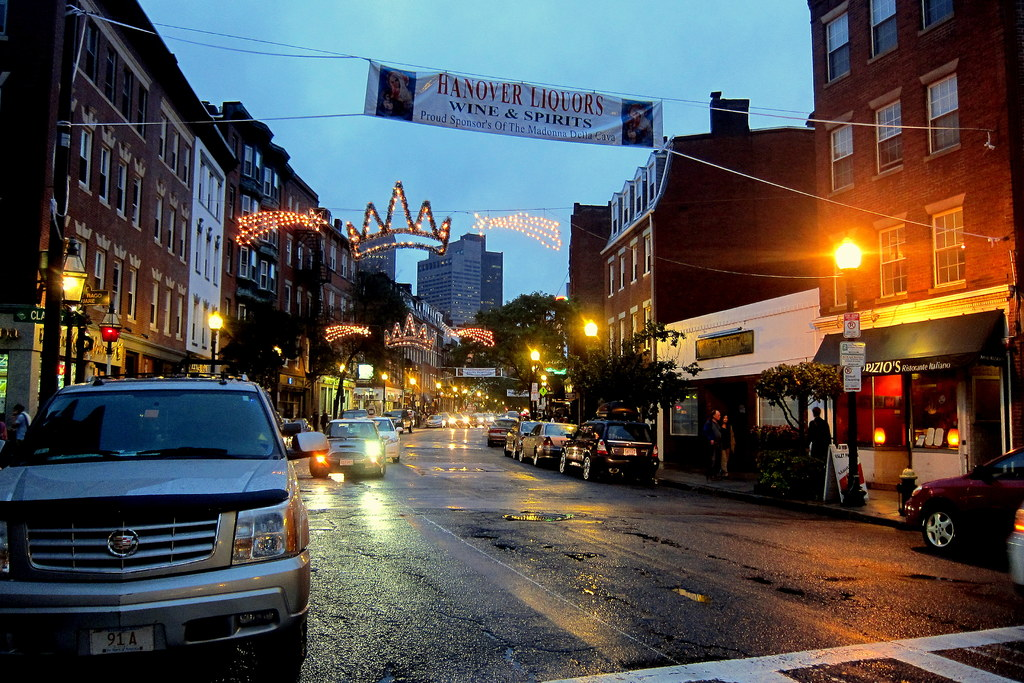Car: (0, 374, 314, 666), (312, 404, 662, 489), (904, 439, 1023, 551), (1007, 508, 1023, 584)
